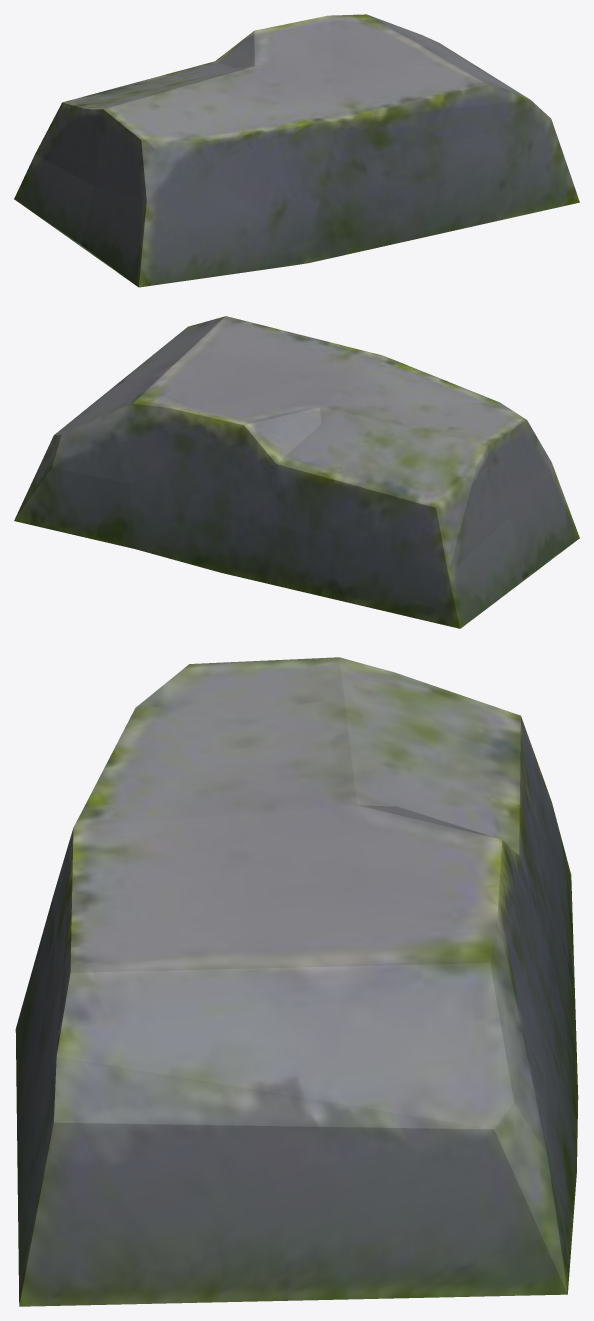
Rendered from pebble_square_6.gltf.
The picture shows the model from 3 angles, top to bottom: view 1: azimuth 30°, elevation 25°; view 2: azimuth 150°, elevation 25°; view 3: azimuth 270°, elevation 25°; orthographic projection. The views are drawn at different scales.
Visible parts, largest first — view 1: Pebble_Square_6; view 2: Pebble_Square_6; view 3: Pebble_Square_6.
Boxes of the visible parts, left/top/right/bottom form: Pebble_Square_6: left=14, top=14, right=579, bottom=287; Pebble_Square_6: left=14, top=316, right=579, bottom=628; Pebble_Square_6: left=15, top=657, right=578, bottom=1306.
Size of the model in its own units: 0.462 by 0.1378 by 0.2629.
Materials: 1 (1 with a texture image).
